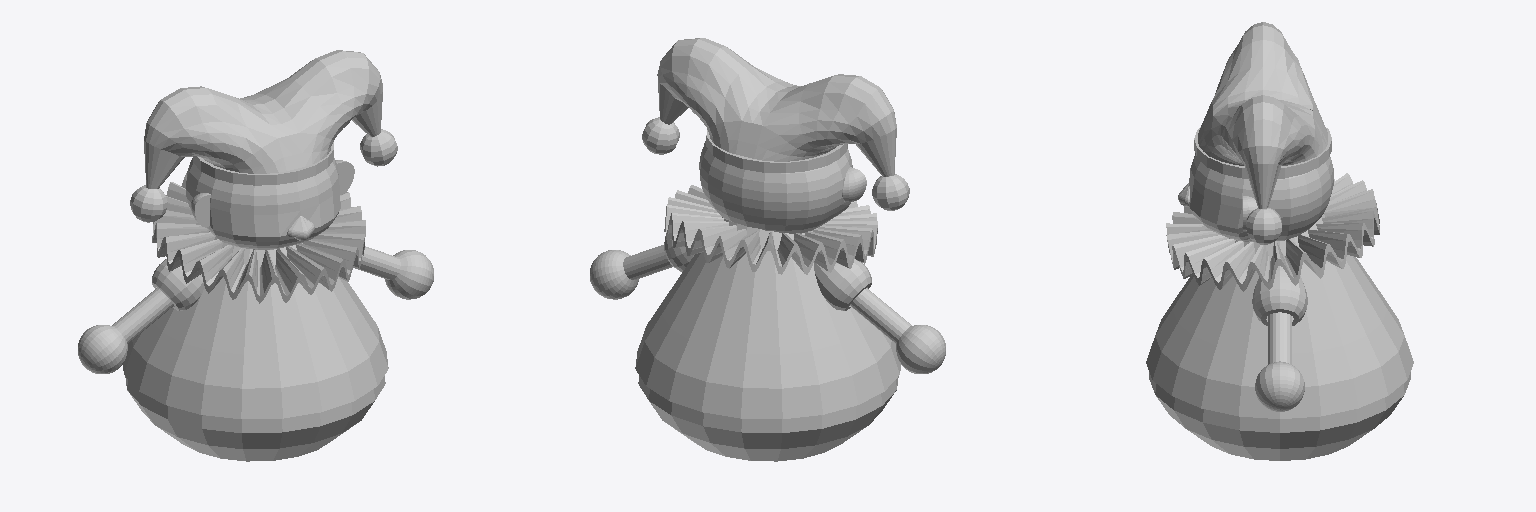
Rendered from Clown second phase.obj.
3 renders of one model, left to right at view 1: azimuth 30°, elevation 25°; view 2: azimuth 150°, elevation 25°; view 3: azimuth 270°, elevation 25°, orthographic.
Visible parts, largest first — view 1: Clown_second_form Dress, Clown_second_form Hat1, Clown_second_form Necklace, Clown_second_form Body, Clown_second_form Face, Arms Clown_second_form, Clown_second_form Balls, Clown_second_form Cap, Clown_second_form Dress_piece, Clown_second_form Ears; view 2: Clown_second_form Dress, Clown_second_form Hat1, Clown_second_form Necklace, Clown_second_form Body, Clown_second_form Face, Arms Clown_second_form, Clown_second_form Dress_piece, Clown_second_form Balls, Clown_second_form Cap, Clown_second_form Ears; view 3: Clown_second_form Dress, Clown_second_form Hat1, Clown_second_form Necklace, Clown_second_form Body, Clown_second_form Face, Arms Clown_second_form, Clown_second_form Dress_piece, Clown_second_form Cap, Clown_second_form Balls.
Part boxes in pixels (left/top/right/bottom): Clown_second_form Dress: left=123, top=231, right=388, bottom=418; Clown_second_form Hat1: left=144, top=50, right=382, bottom=188; Clown_second_form Necklace: left=152, top=173, right=365, bottom=303; Clown_second_form Body: left=125, top=376, right=385, bottom=461; Clown_second_form Face: left=186, top=158, right=340, bottom=249; Arms Clown_second_form: left=78, top=246, right=433, bottom=373; Clown_second_form Balls: left=130, top=129, right=397, bottom=222; Clown_second_form Cap: left=193, top=142, right=333, bottom=185; Clown_second_form Dress_piece: left=152, top=259, right=204, bottom=310; Clown_second_form Ears: left=191, top=160, right=354, bottom=227; Clown_second_form Dress: left=635, top=217, right=900, bottom=418; Clown_second_form Hat1: left=657, top=38, right=896, bottom=176; Clown_second_form Necklace: left=664, top=185, right=877, bottom=274; Clown_second_form Body: left=638, top=376, right=898, bottom=461; Clown_second_form Face: left=699, top=144, right=852, bottom=233; Arms Clown_second_form: left=590, top=245, right=945, bottom=373; Clown_second_form Dress_piece: left=664, top=236, right=871, bottom=310; Clown_second_form Balls: left=642, top=117, right=909, bottom=210; Clown_second_form Cap: left=706, top=130, right=847, bottom=172; Clown_second_form Ears: left=704, top=141, right=866, bottom=201; Clown_second_form Dress: left=1146, top=214, right=1413, bottom=418; Clown_second_form Hat1: left=1198, top=22, right=1327, bottom=208; Clown_second_form Necklace: left=1166, top=173, right=1379, bottom=291; Clown_second_form Body: left=1149, top=372, right=1410, bottom=460; Clown_second_form Face: left=1189, top=153, right=1333, bottom=241; Arms Clown_second_form: left=1255, top=312, right=1304, bottom=411; Clown_second_form Dress_piece: left=1252, top=266, right=1307, bottom=325; Clown_second_form Cap: left=1194, top=127, right=1331, bottom=178; Clown_second_form Balls: left=1246, top=208, right=1281, bottom=244.
Size of the model in its own units: 16.09 by 16.85 by 10.68.